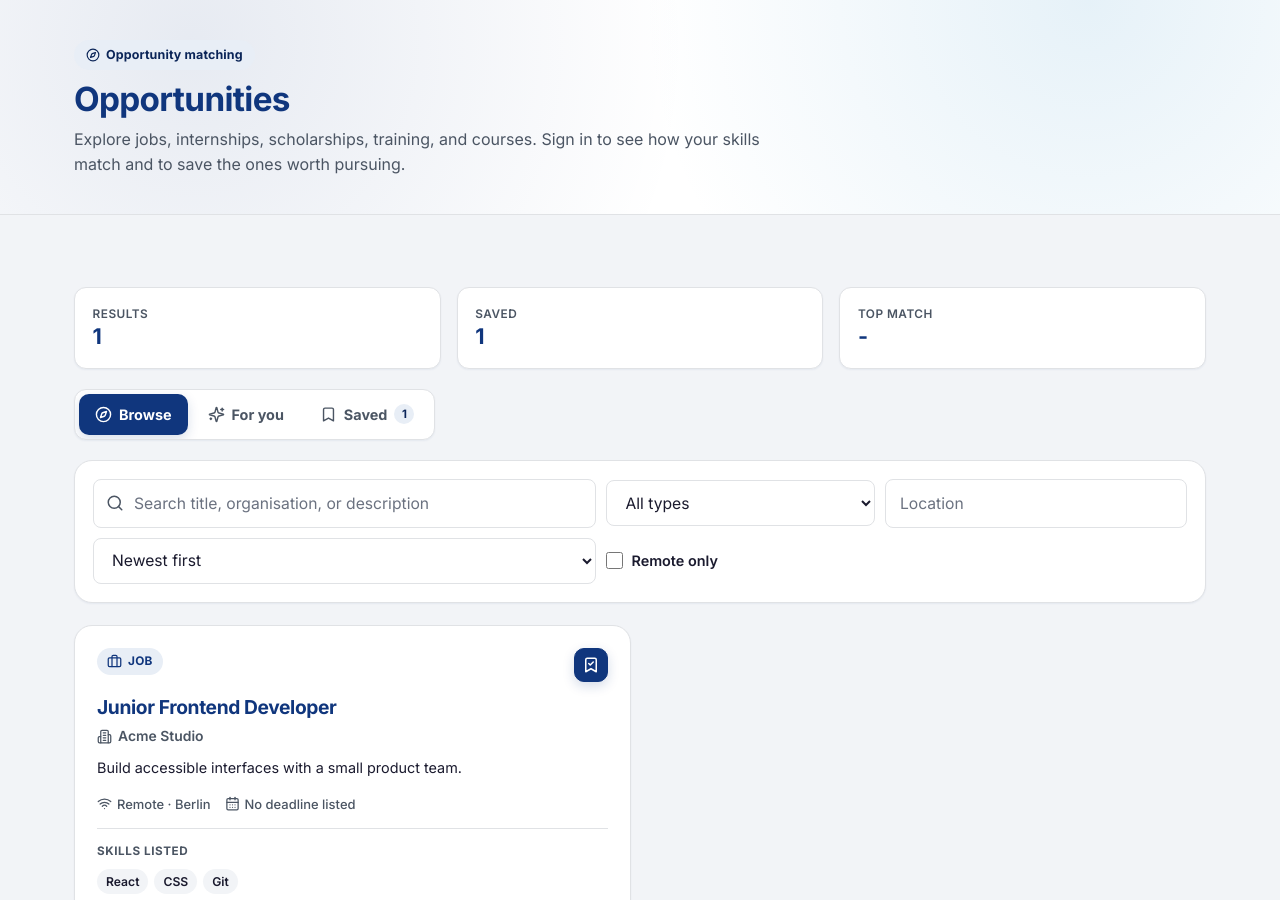
Test case: shows saved opportunities and allows removing them
Expected: the heading "Junior Frontend Developer" is shown, left=97, top=695, right=336, bottom=719
Step 1. Click the tab "Saved 1" → (367, 414), box left=304, top=394, right=430, bottom=435
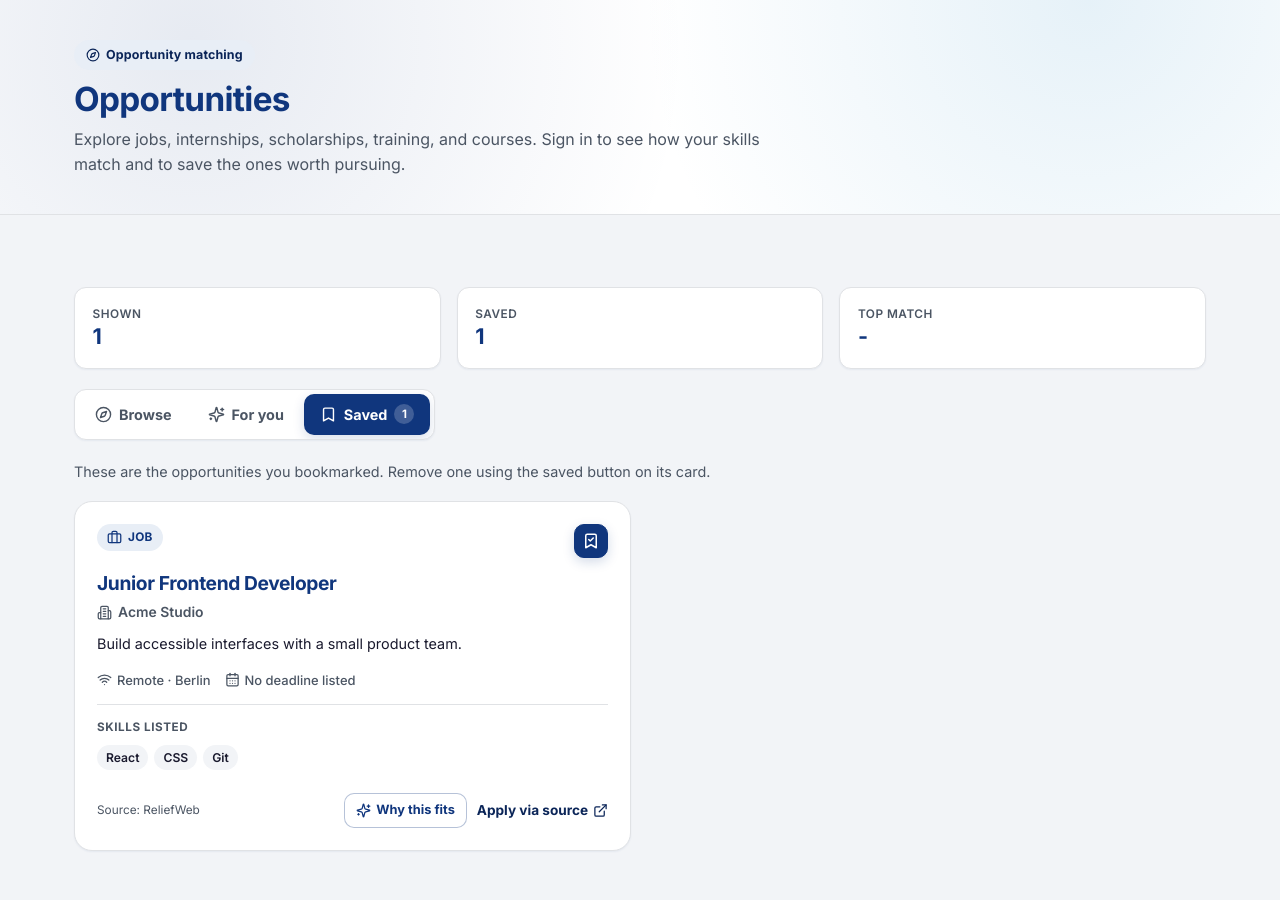
Now the text "These are the opportunities you bookmarked" is shown, box left=74, top=463, right=710, bottom=480
Step 2. Click the button named "remove junior frontend developer from saved opportunities" → (591, 541), box left=574, top=524, right=608, bottom=558
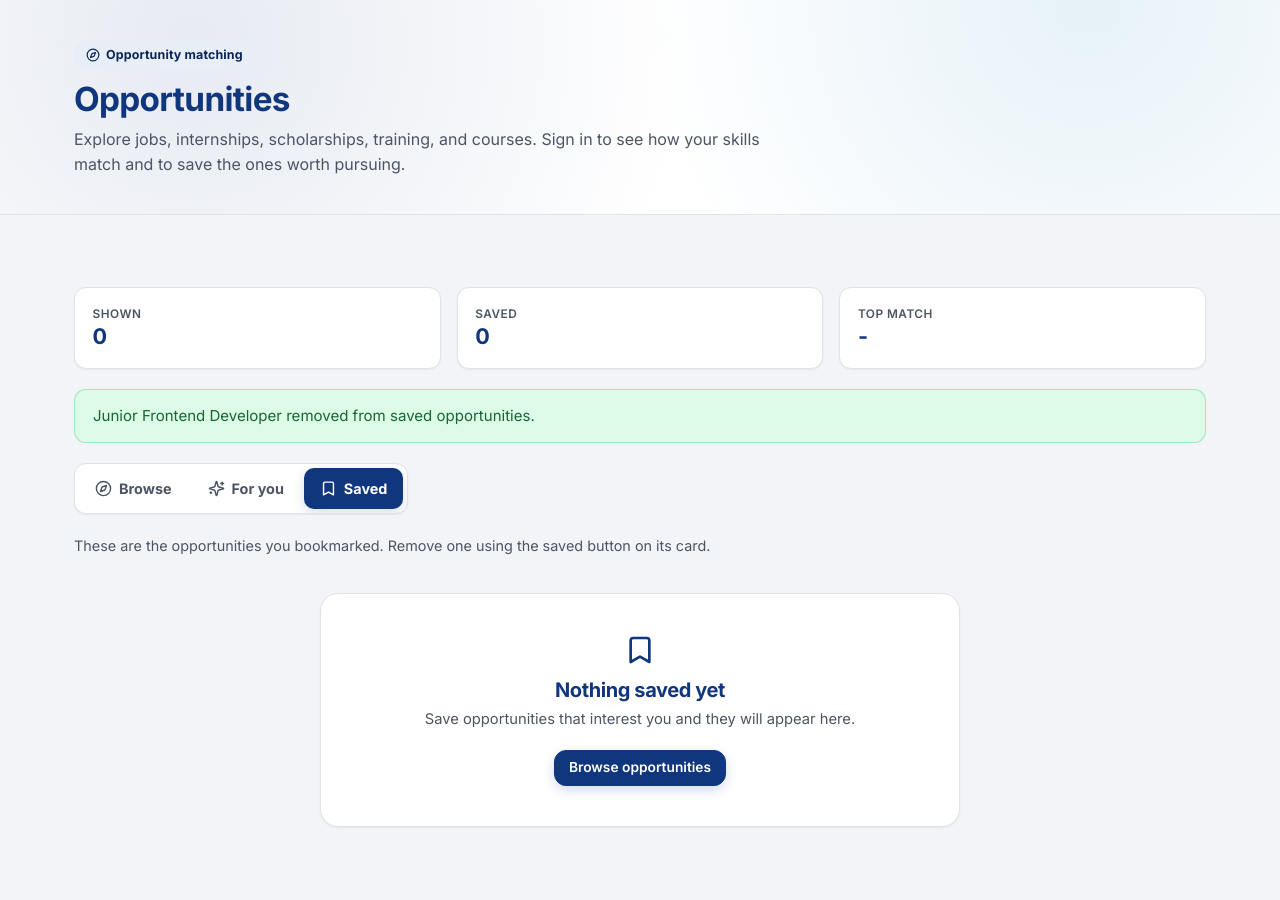
Now the heading "Nothing saved yet" is shown, box left=555, top=678, right=725, bottom=702
